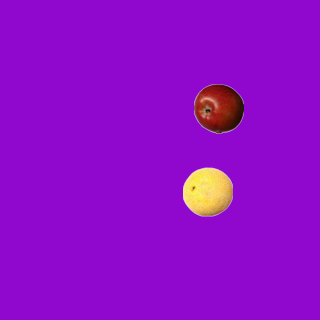Apple Braeburn: (193, 83, 243, 133)
Cantaloupe 1: (182, 166, 232, 216)
